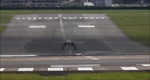maybay_muctieu: (53, 34, 85, 51)
